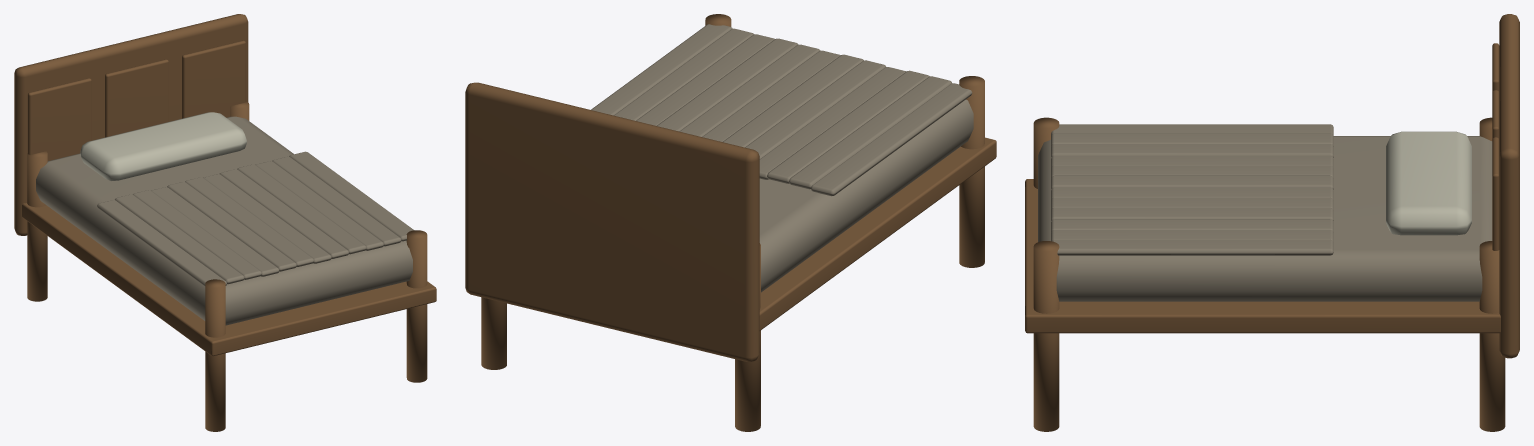
File: bed.glb
3 renders of one model, left to right at view 1: azimuth 30°, elevation 25°; view 2: azimuth 150°, elevation 25°; view 3: azimuth 270°, elevation 25°, orthographic. The views are drawn at different scales.
Visible parts, largest first — view 1: bed; view 2: bed; view 3: bed.
Part boxes in pixels (<box>): bed: <box>14,14,436,431</box>; bed: <box>465,14,996,431</box>; bed: <box>1025,14,1519,431</box>.
Bounding box in the file's own units: 1.95 × 1.83 × 2.88.
